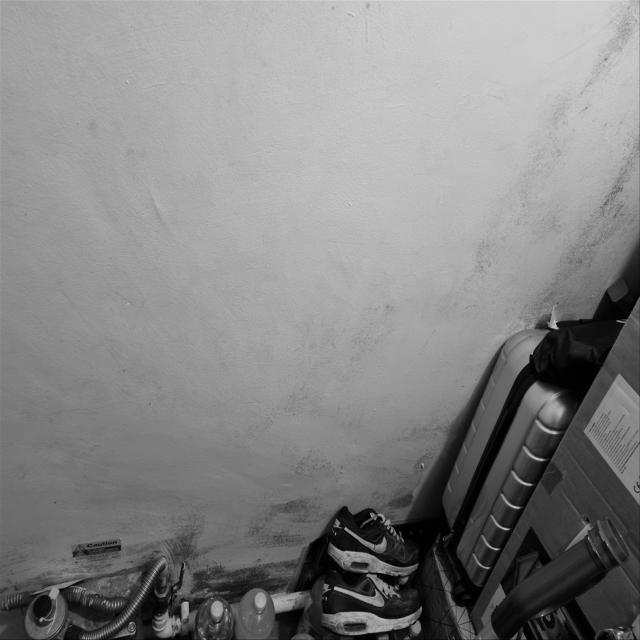stain marks: (0, 232, 470, 576), (423, 0, 639, 346), (72, 99, 168, 234), (190, 48, 271, 192)
